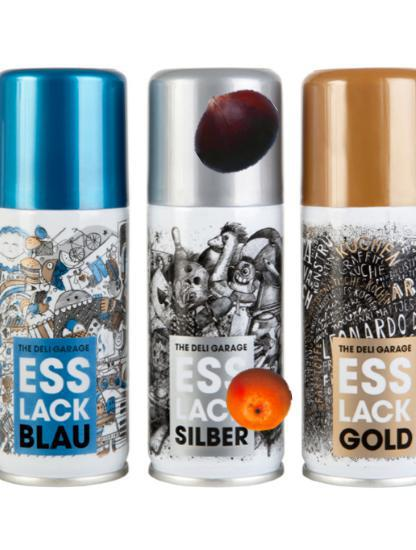Chestnut: (189, 83, 282, 176)
Grapefruit: (226, 366, 292, 432)
